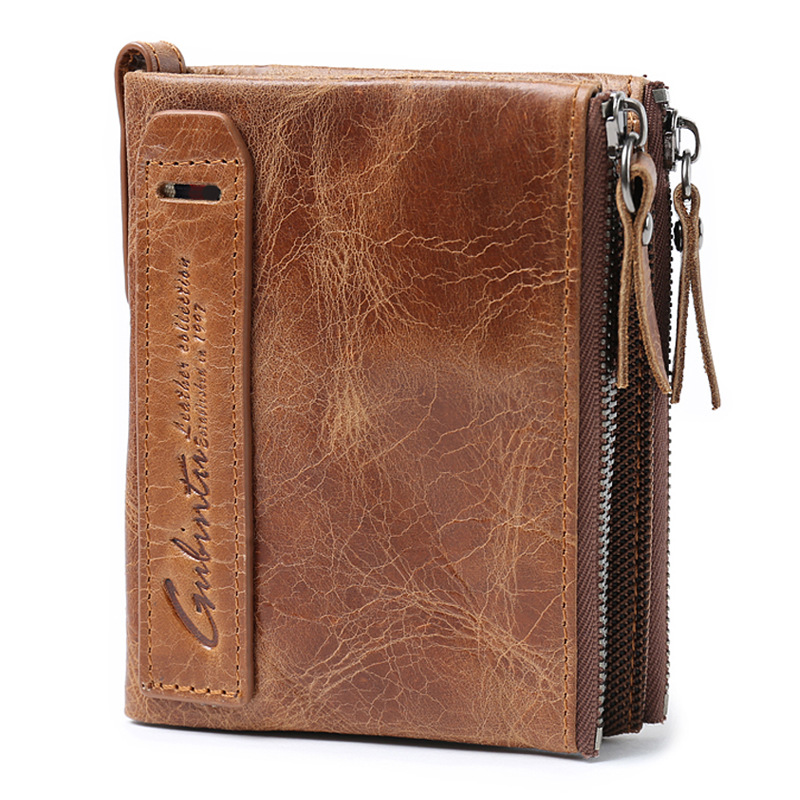monedero: (110, 36, 728, 761)
